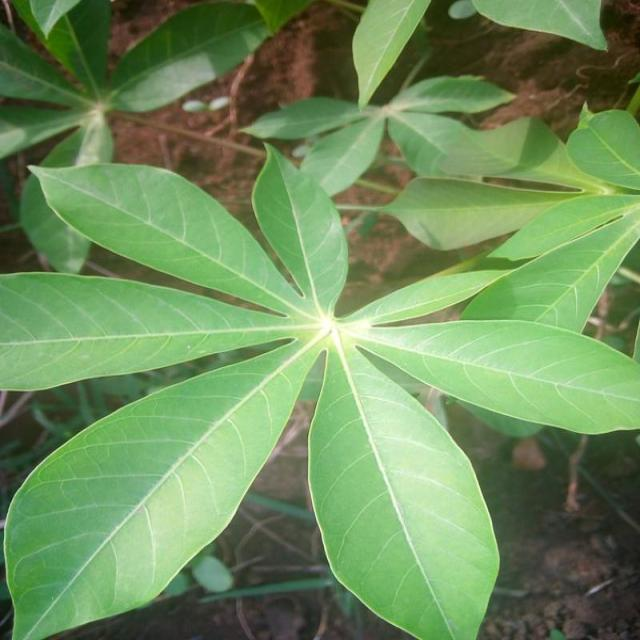cassava leaf: (1, 134, 638, 638), (2, 333, 312, 638), (306, 340, 500, 638)
